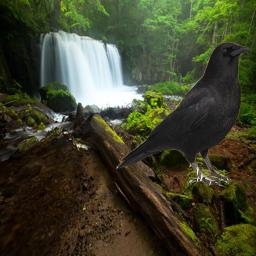Crow: (116, 39, 252, 187)
